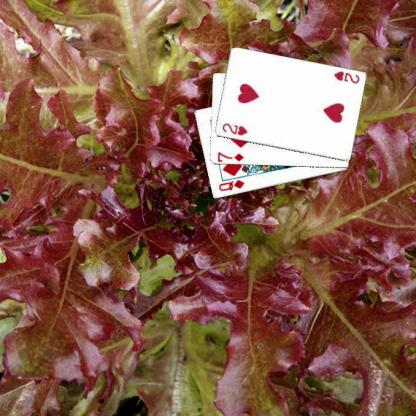2H: (219, 120, 249, 137), (331, 69, 360, 84)
7D: (215, 150, 245, 162)
QD: (216, 177, 245, 193)
